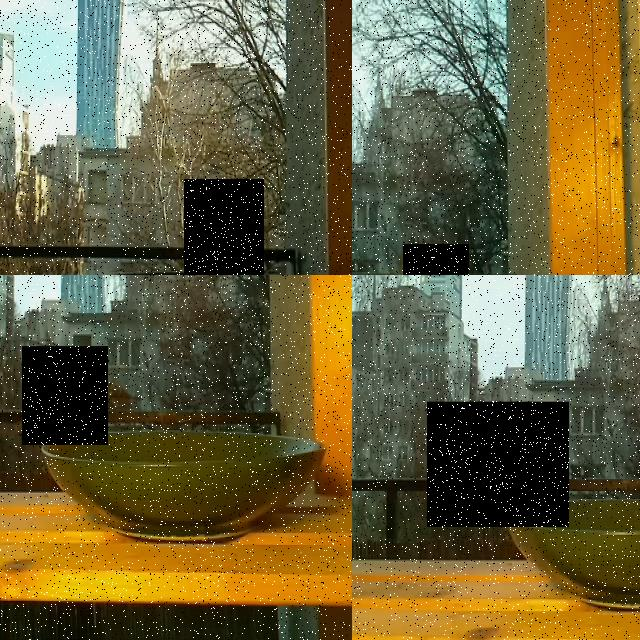Bogatka: (22, 346, 108, 445)
Modraszka: (184, 179, 264, 275)
Wrobel: (427, 402, 569, 527), (403, 243, 469, 275)
